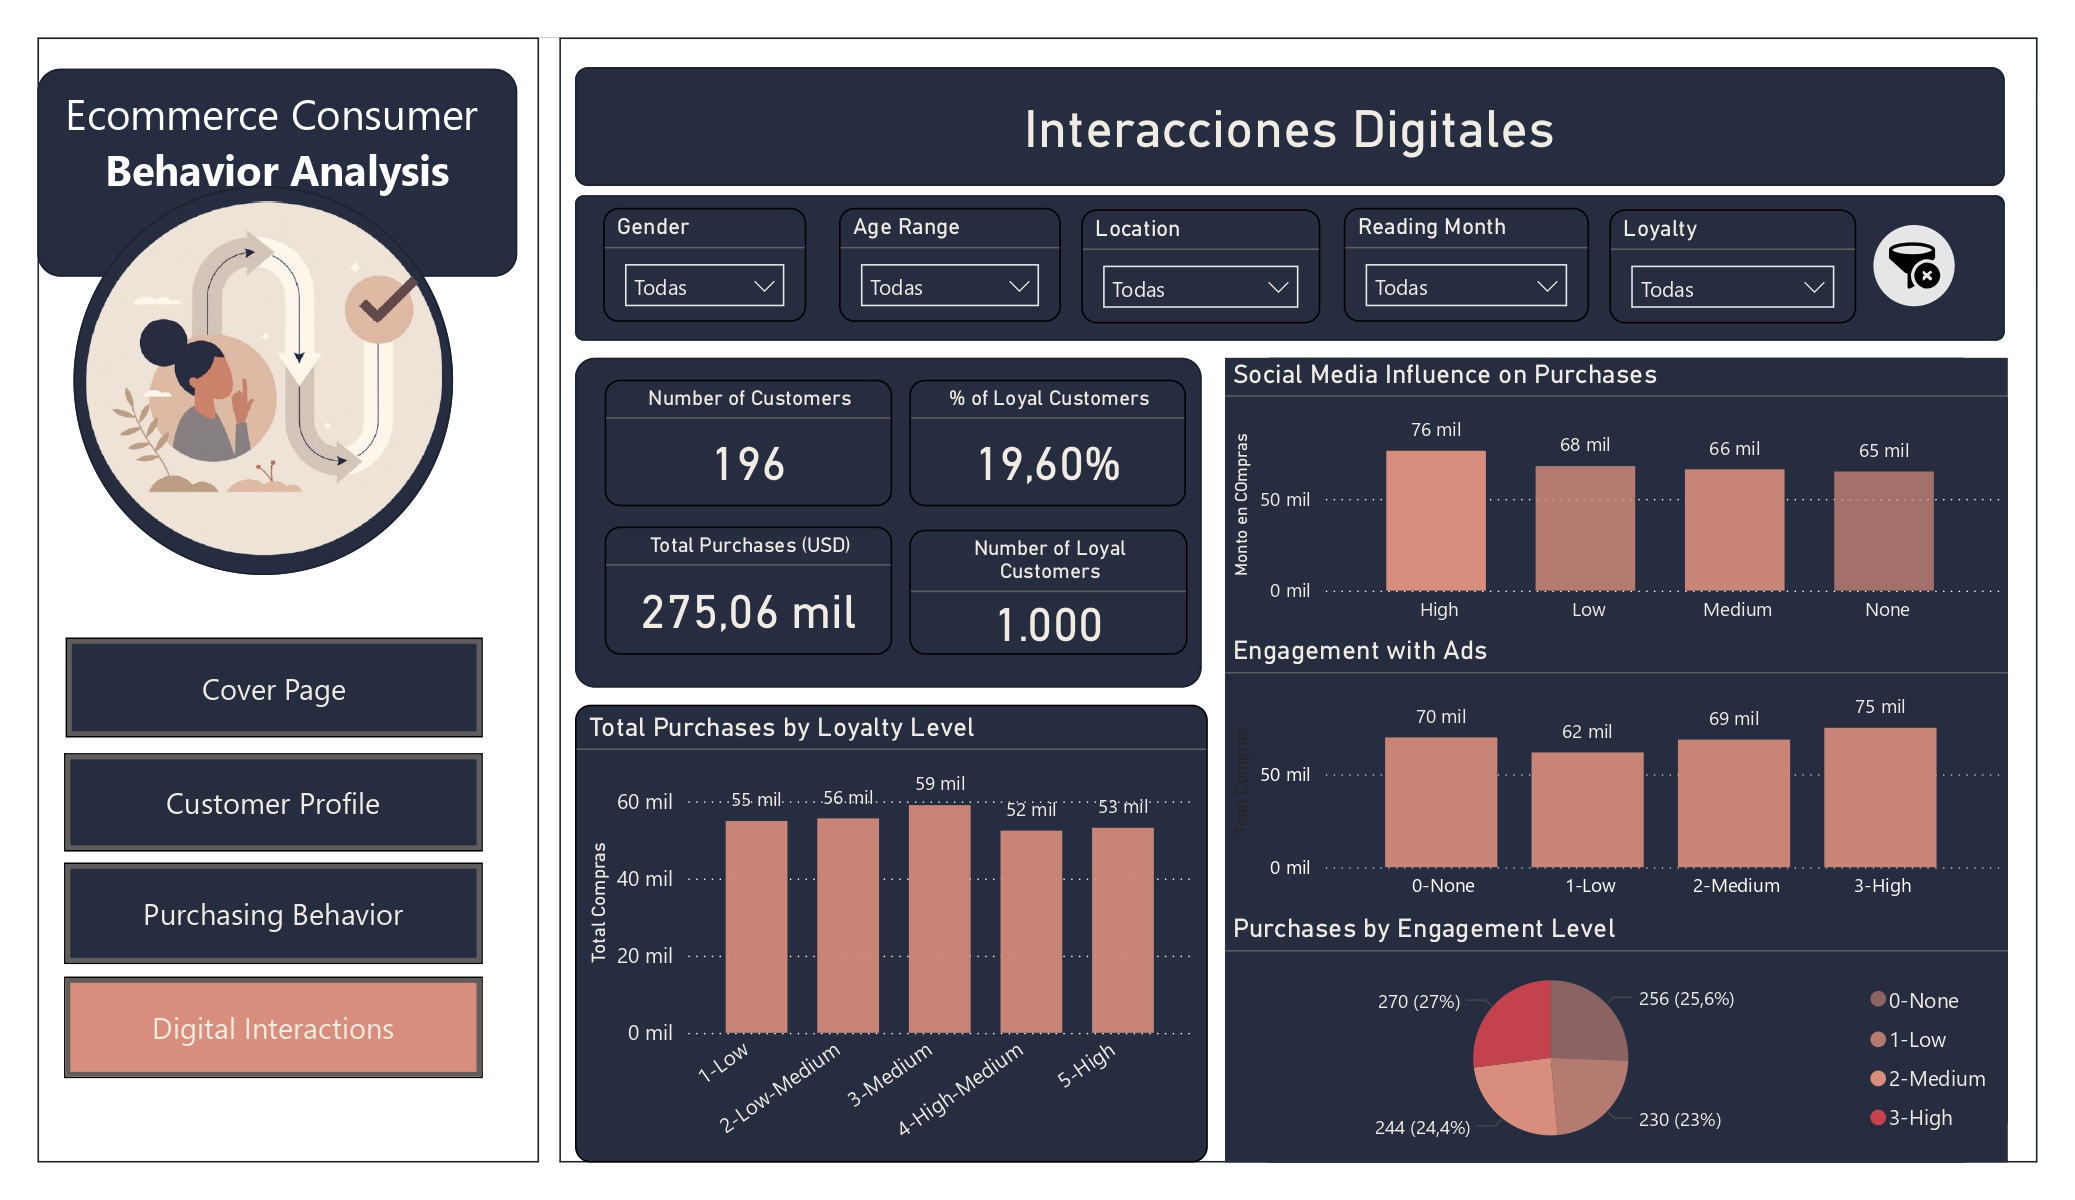

Layout of this report page (visuals, bound fields, positions):
{"tool":"powerbi","page":{"name":"Digital Interactions","canvas":[1280,720],"ordinal":3},"visuals":[{"type":"shape","box":[0,0,321.3,719.7],"z":0},{"type":"shape","box":[0,19.7,307,133.2],"z":0,"group":"g1"},{"type":"shape","box":[333.8,0,946.2,720],"z":1000},{"type":"shape","box":[23.3,95.1,243.1,248.7],"z":1000,"group":"g1"},{"type":"image","box":[3.5,99.8,282.6,239.2],"z":2000,"group":"g1"},{"type":"actionButton","box":[17.4,457.6,267.9,63.4],"z":2000},{"type":"actionButton","box":[17.4,527.8,267.9,64.9],"z":3000},{"type":"actionButton","box":[17.4,600.9,267.9,64.9],"z":4000},{"type":"actionButton","box":[17.7,384,267.5,63.8],"z":5000},{"type":"group","id":"g1","title":"Grupo 1","box":[0,19.7,306.6,324.6],"z":6000},{"type":"textbox","box":[0,24.6,306.6,159],"z":7000},{"type":"columnChart","title":"Total Purchases by Loyalty Level","fields":{"Y":["Medidas.Total Compras"],"Category":["Purchase.Lealtad_Desc"]},"box":[343.9,427.3,405.4,292.7],"z":8000},{"type":"shape","box":[344.3,100.7,914.8,93.4],"z":9000},{"type":"group","id":"g2","title":"Grupo 2","box":[1174.7,120.3,53.2,51.9],"z":10000},{"type":"shape","box":[343.8,18.8,915,76.2],"z":11000},{"type":"shape","box":[1174.7,120.3,52.5,52.4],"z":11000,"group":"g2"},{"type":"textbox","box":[343.8,33.8,915,53.8],"z":12000},{"type":"image","box":[1178.6,124.3,44.6,44.4],"z":12000,"group":"g2"},{"type":"shape","box":[343.9,204.9,401,210.7],"z":13000},{"type":"shape","box":[759.5,204.9,502,515.1],"z":14000},{"type":"columnChart","title":"Social Media Influence on Purchases","fields":{"Category":["Social Media Influence.Social_Media_Influence"],"Y":["Medidas.Total Compras"]},"box":[759.5,204.9,502,178.5],"z":15000},{"type":"pieChart","title":"Purchases by Engagement Level","fields":{"Category":["Engagement with Ads.Engagement_with_Ads"],"Y":["Medidas.Cantidad Clientes"]},"box":[759.5,560.5,502,159.5],"z":16000},{"type":"clusteredColumnChart","title":"Engagement with Ads","fields":{"Category":["Engagement with Ads.Engagement_with_Ads"],"Y":["Medidas.Total Compras"]},"box":[759.5,382,502,178.5],"z":17000},{"type":"slicer","title":"Gender","fields":{"Values":["Gender.Gender"]},"box":[362,108.9,130.4,73.4],"z":18000},{"type":"slicer","title":"Age Range","fields":{"Values":["Clients.RangoEdad Jerarquía.RangoEdad","Clients.RangoEdad Jerarquía.Age"]},"box":[512.6,109.2,142.5,72.4],"z":19000},{"type":"slicer","title":"Reading Month","fields":{"Values":["CalendarioDinamico.Mes (Abreviado)","CalendarioDinamico.Año"]},"box":[835.6,109.2,157.5,72.4],"z":20000},{"type":"slicer","title":"Location","fields":{"Values":["Region.Region","Country(Country).Country"]},"box":[667.8,110.3,152.9,72.4],"z":21000},{"type":"slicer","title":"Loyalty","fields":{"Values":["Purchase.Brand_Loyalty"]},"box":[1005.7,110.3,158.6,72.4],"z":22000},{"type":"card","title":"Number of Customers","fields":{"Values":["Medidas.Cantidad Clientes"]},"box":[363,219,178,80],"z":22001},{"type":"card","title":"Total Purchases (USD)","fields":{"Values":["Medidas.Total Compras"]},"box":[363,313,178,82],"z":22002},{"type":"card","title":"Number of Loyal Customers","fields":{"Values":["Medidas.Clientes Leales"]},"box":[553,219,184,81],"z":22003},{"type":"card","title":"% of Loyal Customers","fields":{"Values":["Medidas.PorCienClientesLeales"]},"box":[553,314,184,81],"z":22004}]}

Visuals, with their boxes on the page's 1280x720 design canvas (x1, y1, x2, y2). These are canvas units, not pixel positions in the 2075x1200 screenshot, which may show the page scaled, cropped or inside an application window:
shape: bbox=(0, 0, 321, 720)
shape: bbox=(0, 20, 307, 153)
shape: bbox=(334, 0, 1280, 720)
shape: bbox=(23, 95, 266, 344)
image: bbox=(4, 100, 286, 339)
actionButton: bbox=(17, 458, 285, 521)
actionButton: bbox=(17, 528, 285, 593)
actionButton: bbox=(17, 601, 285, 666)
actionButton: bbox=(18, 384, 285, 448)
"Grupo 1" group: bbox=(0, 20, 307, 344)
textbox: bbox=(0, 25, 307, 184)
"Total Purchases by Loyalty Level" columnChart: bbox=(344, 427, 749, 720)
shape: bbox=(344, 101, 1259, 194)
"Grupo 2" group: bbox=(1175, 120, 1228, 172)
shape: bbox=(344, 19, 1259, 95)
shape: bbox=(1175, 120, 1227, 173)
textbox: bbox=(344, 34, 1259, 88)
image: bbox=(1179, 124, 1223, 169)
shape: bbox=(344, 205, 745, 416)
shape: bbox=(760, 205, 1262, 720)
"Social Media Influence on Purchases" columnChart: bbox=(760, 205, 1262, 383)
"Purchases by Engagement Level" pieChart: bbox=(760, 560, 1262, 720)
"Engagement with Ads" clusteredColumnChart: bbox=(760, 382, 1262, 560)
"Gender" slicer: bbox=(362, 109, 492, 182)
"Age Range" slicer: bbox=(513, 109, 655, 182)
"Reading Month" slicer: bbox=(836, 109, 993, 182)
"Location" slicer: bbox=(668, 110, 821, 183)
"Loyalty" slicer: bbox=(1006, 110, 1164, 183)
"Number of Customers" card: bbox=(363, 219, 541, 299)
"Total Purchases (USD)" card: bbox=(363, 313, 541, 395)
"Number of Loyal Customers" card: bbox=(553, 219, 737, 300)
"% of Loyal Customers" card: bbox=(553, 314, 737, 395)
